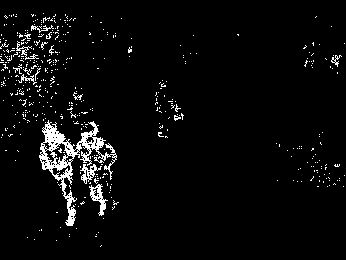person: (76, 122, 120, 216), (39, 120, 77, 227), (154, 80, 184, 139)
